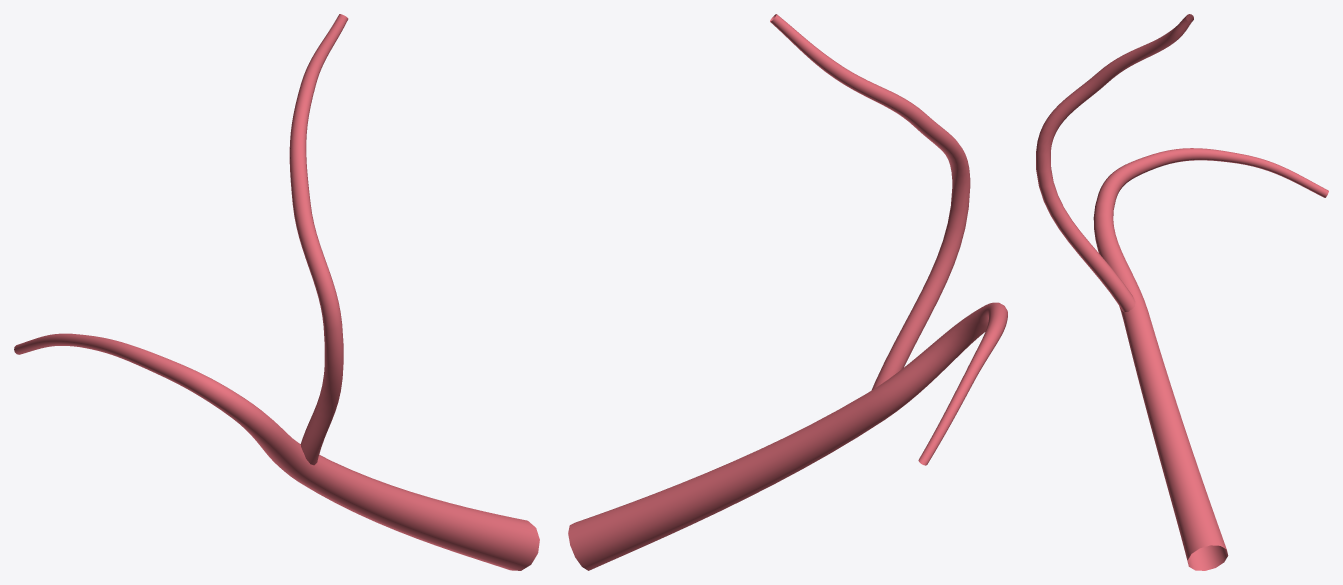
The picture shows the model from 3 angles, left to right: view 1: azimuth 30°, elevation 25°; view 2: azimuth 150°, elevation 25°; view 3: azimuth 270°, elevation 25°; orthographic projection. The views are drawn at different scales.
Parts seen in each view (by area): view 1: ZA_ae03f3875e8d5ba1; view 2: ZA_ae03f3875e8d5ba1; view 3: ZA_ae03f3875e8d5ba1.
Part boxes in pixels (x1,y1,x2,y2): ZA_ae03f3875e8d5ba1: (14,14,539,570); ZA_ae03f3875e8d5ba1: (568,14,1007,570); ZA_ae03f3875e8d5ba1: (1036,14,1328,570).
Bounding box in the file's own units: 0.0485 × 0.0634 × 0.0346.
